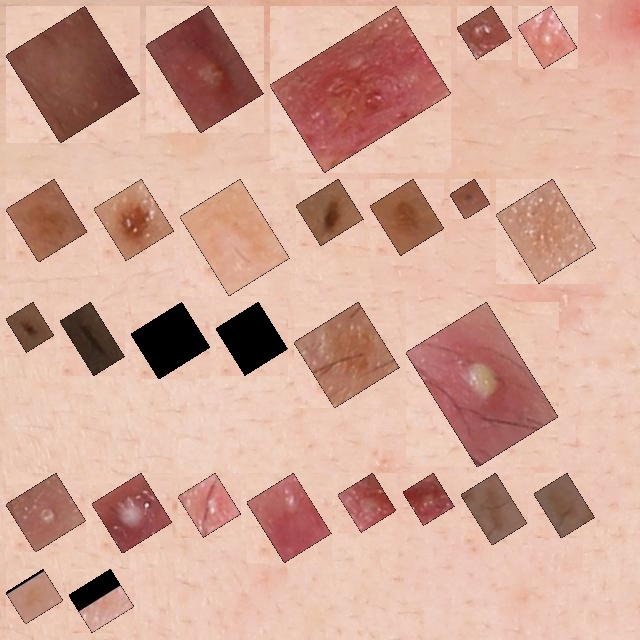hypertrophic_scar: (17, 17, 128, 132), (191, 190, 278, 284)
melasma: (305, 313, 388, 397), (507, 190, 585, 272), (17, 190, 76, 251), (142, 313, 199, 368), (381, 190, 433, 244), (227, 313, 277, 364), (472, 484, 516, 534), (80, 580, 123, 621), (545, 484, 584, 527), (17, 580, 52, 613)
nevus: (105, 190, 163, 249), (71, 313, 113, 364), (307, 190, 352, 234), (17, 313, 43, 341), (461, 190, 479, 208)
pustule: (281, 17, 440, 161), (417, 313, 547, 456), (157, 17, 252, 122), (258, 484, 320, 551), (103, 484, 161, 542), (17, 484, 75, 541), (189, 484, 230, 526), (529, 17, 566, 57), (349, 484, 385, 521), (468, 17, 500, 48), (414, 484, 443, 514)
